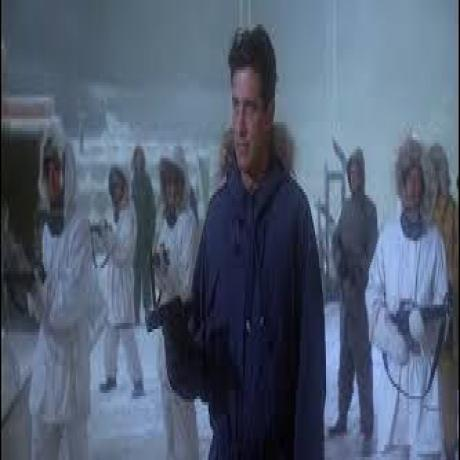Guns: (377, 286, 454, 367), (147, 293, 191, 359), (90, 215, 112, 238)
